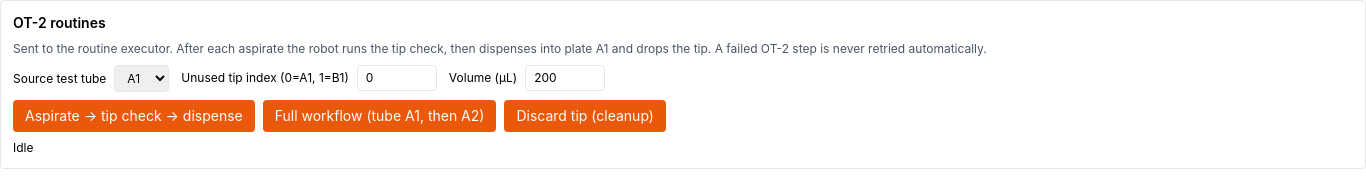
Test case: invalid tip or volume disables the transfer
The image size is (1366, 186).
Replace the text in the number field labelled "Unused tip index (0=A1, 1=B1)" with "96": (397, 78) [357,65,437,91]
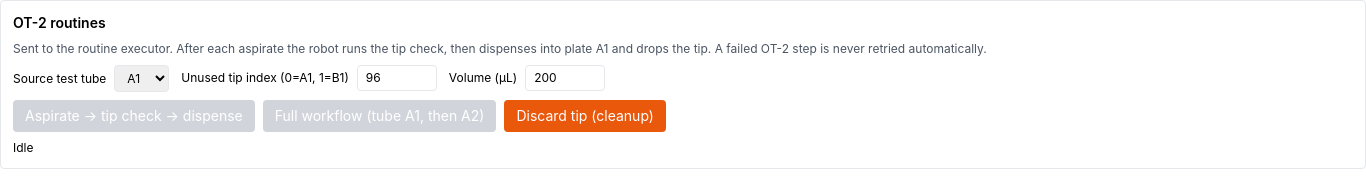
Result: the button "Aspirate → tip check → dispense" is disabled at [13,100,255,132]
Replace the text in the number field labelled "Unused tip index (0=A1, 1=B1)" with "3": (397, 78) [357,65,437,91]
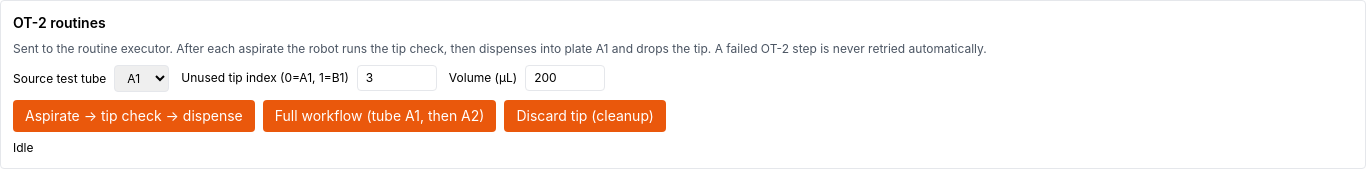
Replace the text in the number field labelled "Volume (µL)" with "250": (565, 78) [525,65,605,91]
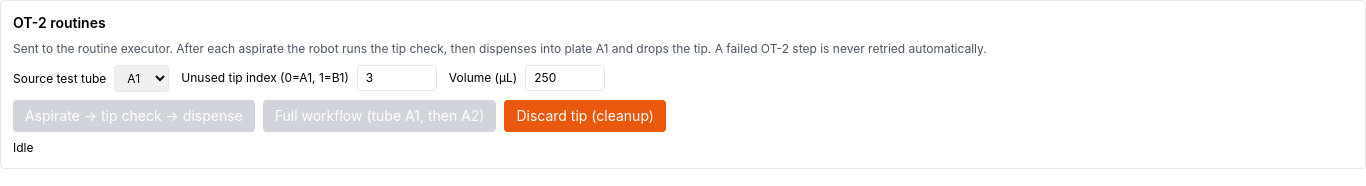
Result: the button "Aspirate → tip check → dispense" is disabled at [13,100,255,132]
